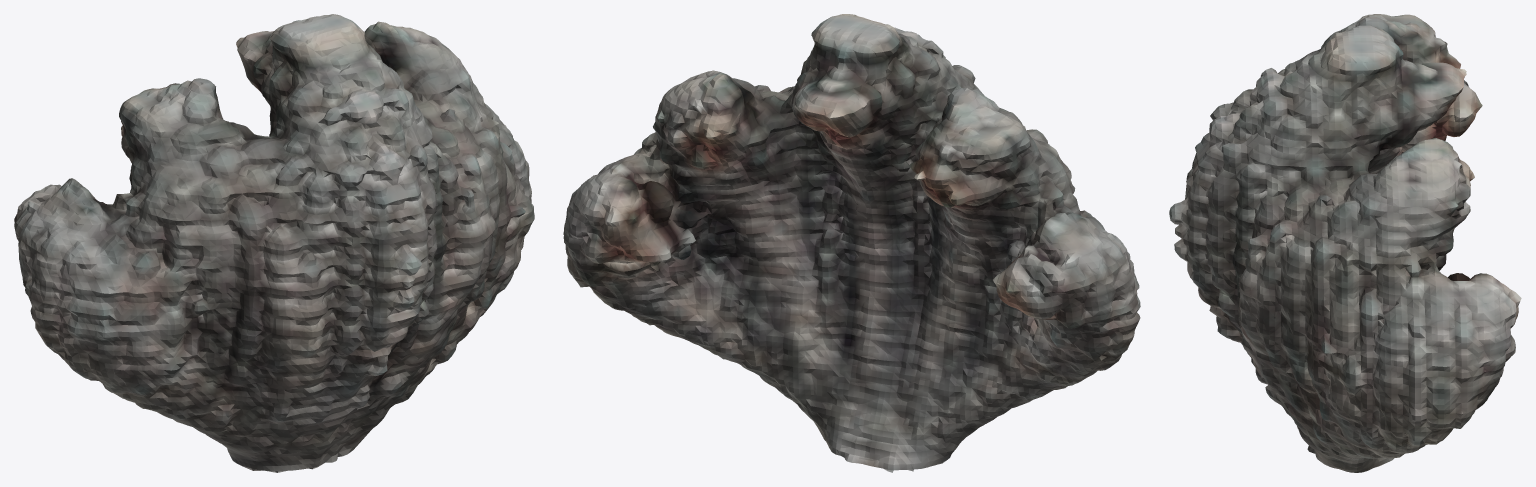
Rendered from sheshnag.glb.
3 views of the same model, side by side, from view 1: azimuth 30°, elevation 25°; view 2: azimuth 150°, elevation 25°; view 3: azimuth 270°, elevation 25° (orthographic).
Parts seen in each view (by area): view 1: world; view 2: world; view 3: world.
Part boxes in pixels (x1=…): world: x1=14, y1=14, x2=534, y2=472; world: x1=563, y1=14, x2=1140, y2=472; world: x1=1169, y1=14, x2=1521, y2=472.
Size of the model in its own units: 1.42 by 1.08 by 0.8289.
